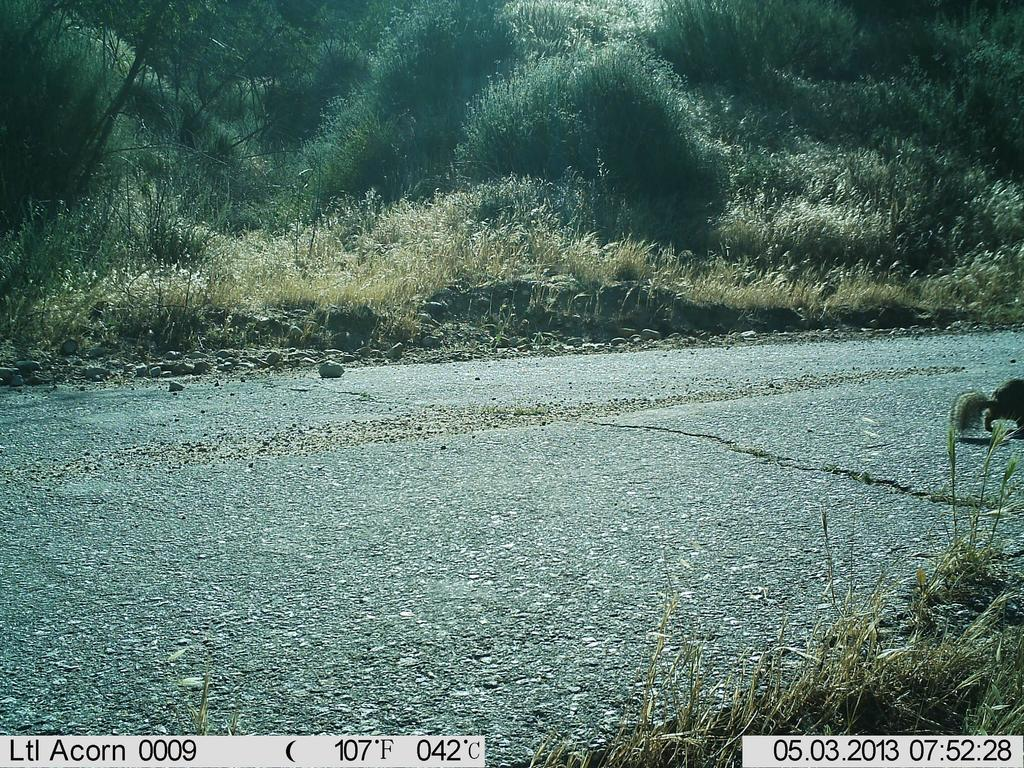squirrel: (939, 355, 1024, 455)
